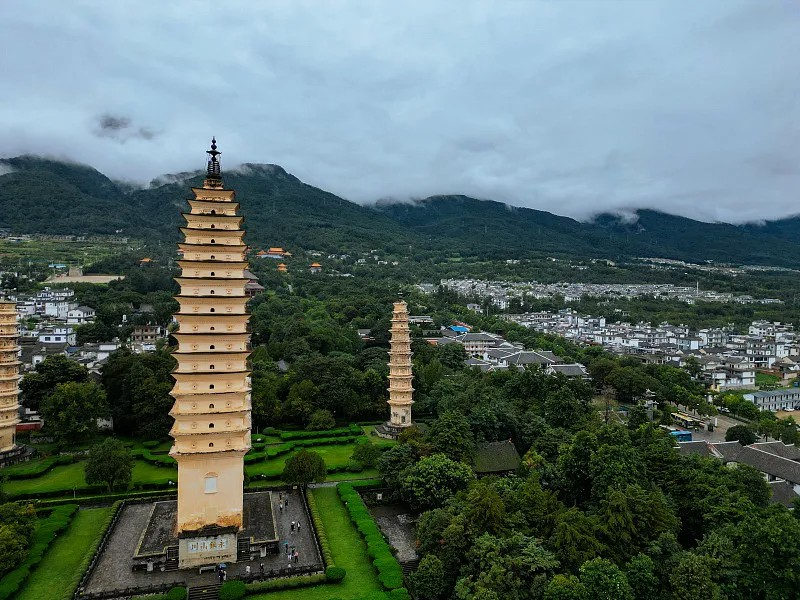ThreePagoda: (167, 135, 252, 529)
